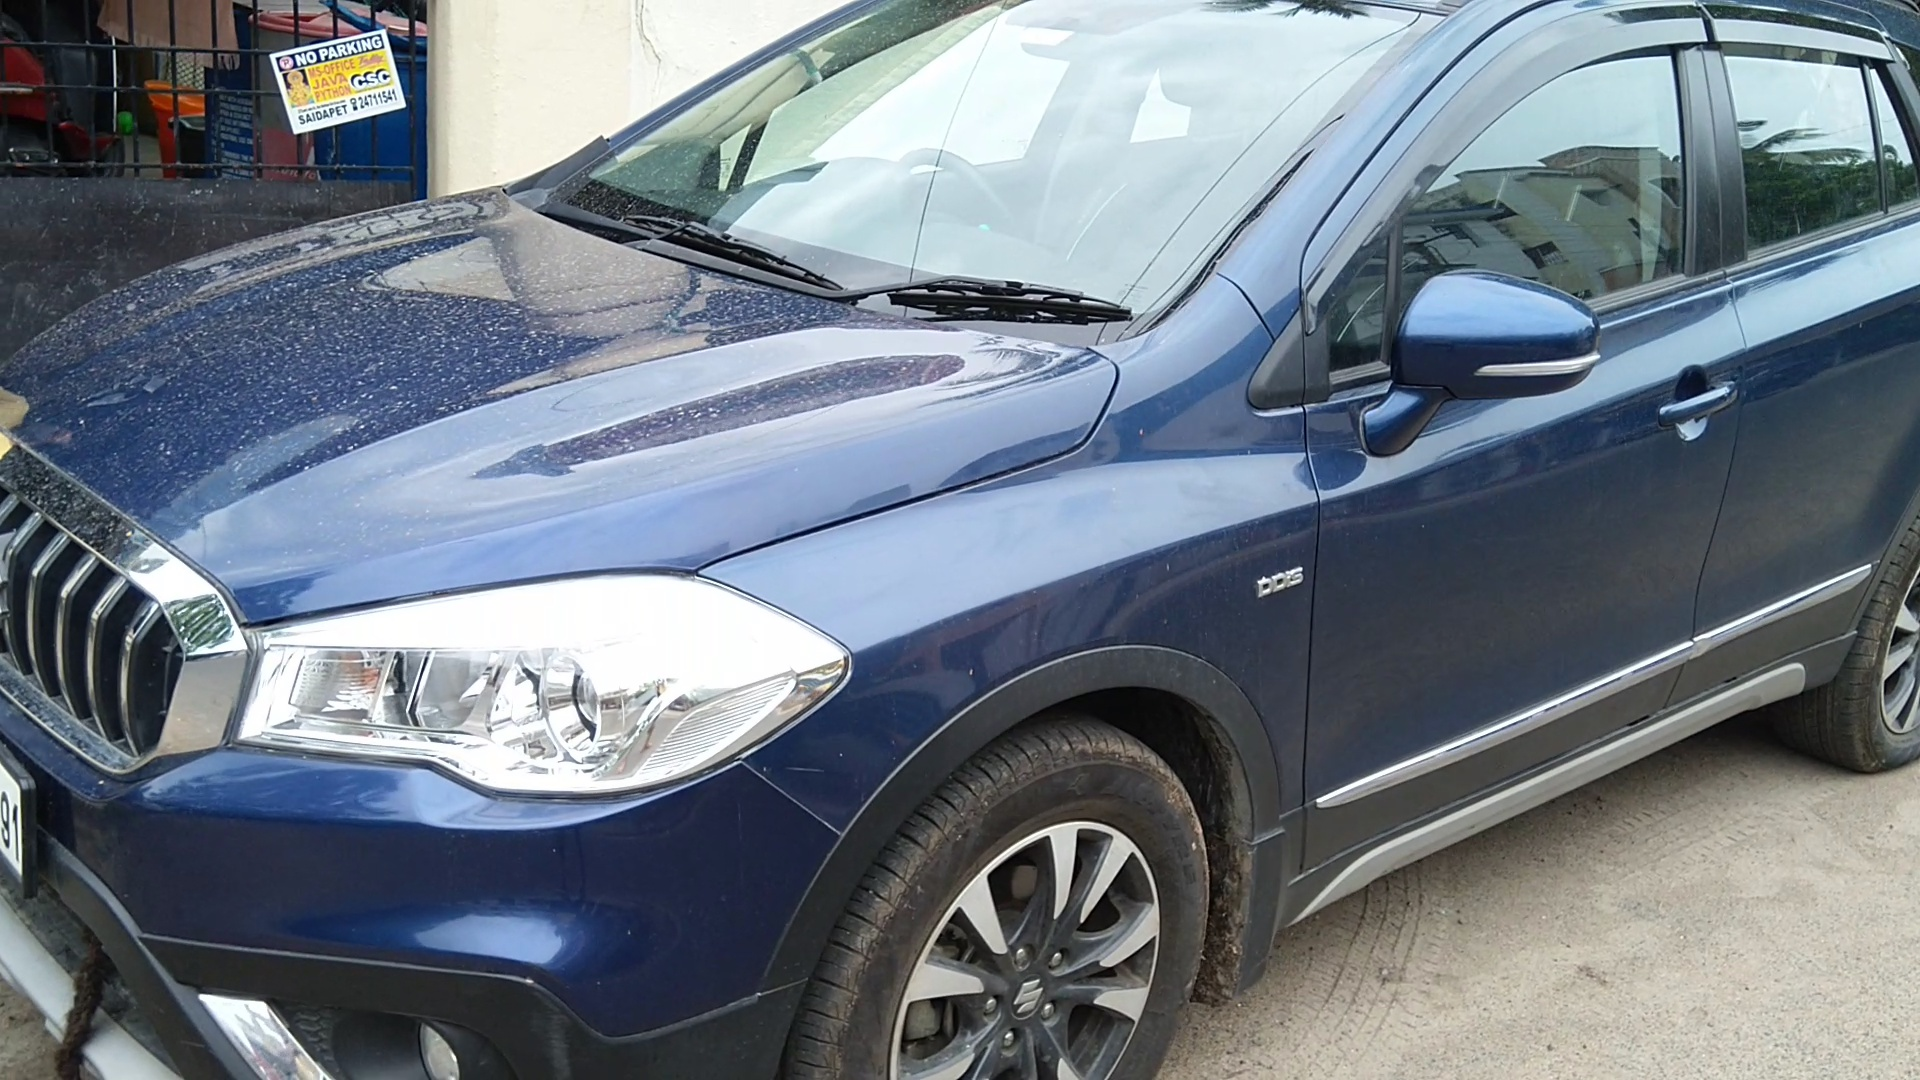alloy_wheel: (820, 746, 1197, 1080)
headlamp: (241, 560, 873, 811)
ovr_mirror: (1400, 258, 1604, 422)
